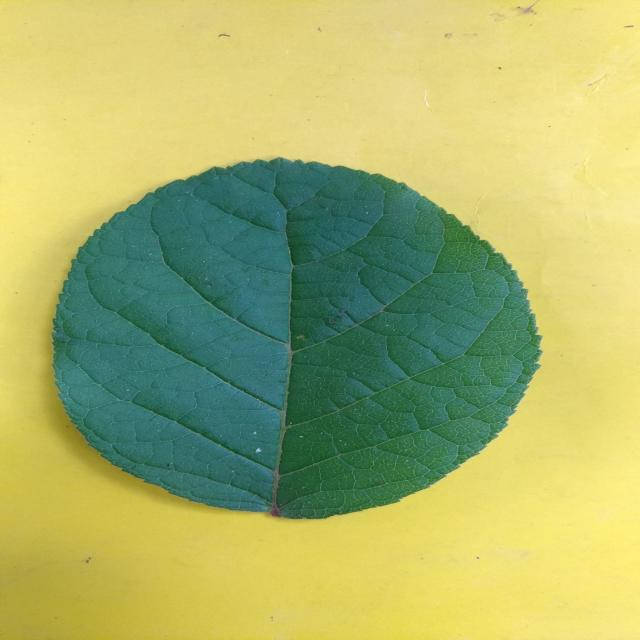padri: (53, 159, 540, 519)
